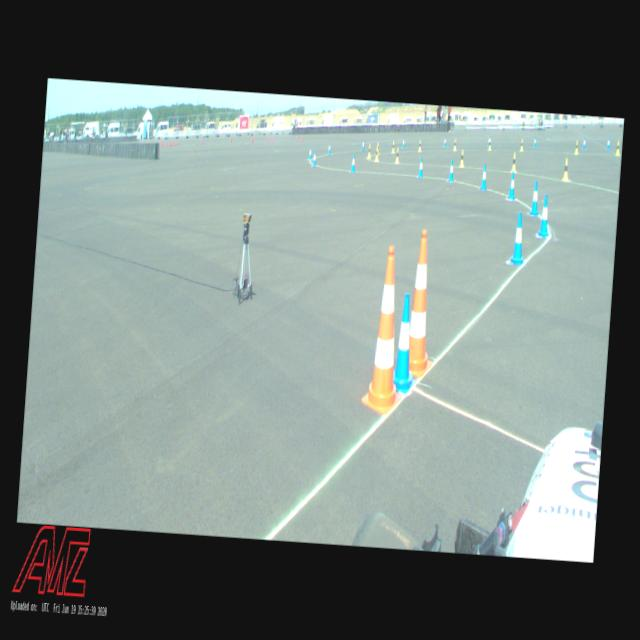blue_cone: (392, 292, 421, 394), (508, 211, 528, 265), (538, 194, 551, 238), (529, 180, 540, 216), (508, 170, 516, 200), (480, 164, 488, 189), (448, 158, 455, 182), (350, 154, 356, 172), (418, 157, 423, 177), (312, 150, 317, 166), (308, 146, 312, 160), (582, 136, 586, 149), (606, 136, 610, 149), (401, 136, 405, 148), (486, 134, 489, 146), (533, 136, 536, 146), (328, 142, 330, 154), (444, 136, 446, 147), (362, 140, 364, 150)
large_orange_cone: (360, 243, 412, 414), (406, 228, 442, 378)
yellow_cone: (561, 157, 570, 180), (511, 152, 517, 172), (615, 140, 621, 155), (459, 148, 464, 166), (394, 147, 399, 163), (452, 138, 457, 150), (367, 144, 371, 158), (374, 147, 378, 161), (574, 140, 578, 153), (519, 138, 523, 151), (488, 137, 492, 150), (376, 142, 379, 154), (418, 140, 421, 150), (392, 140, 394, 152)
